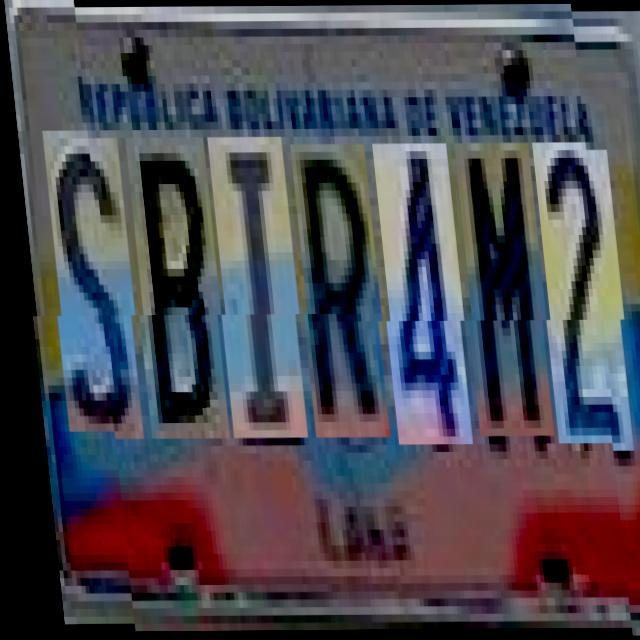2: (528, 143, 628, 444)
4: (368, 144, 468, 445)
B: (122, 138, 225, 438)
I: (204, 137, 302, 438)
M: (451, 144, 549, 436)
R: (287, 144, 385, 438)
S: (40, 138, 138, 439)
